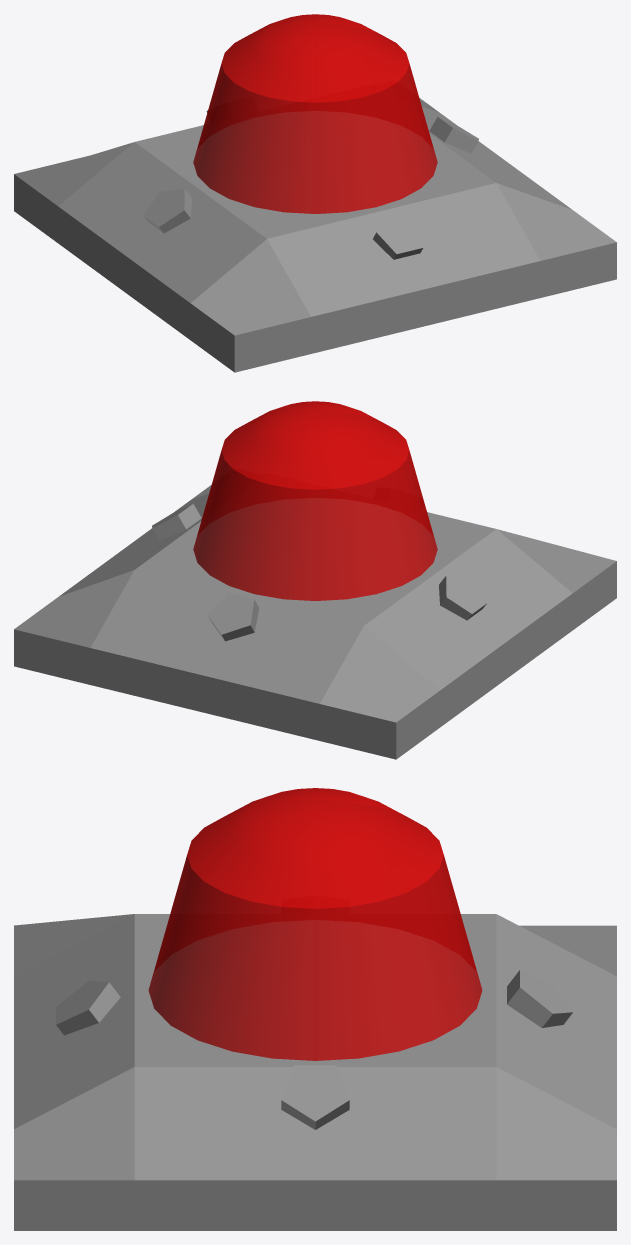
File: Alarm.FBX
3 renders of one model, top to bottom at view 1: azimuth 30°, elevation 25°; view 2: azimuth 150°, elevation 25°; view 3: azimuth 270°, elevation 25°, orthographic. The views are drawn at different scales.
Visible parts, largest first — view 1: Box001, Cone001; view 2: Box001, Cone001; view 3: Box001, Cone001.
Boxes of the visible parts, x1,y1,x2,y2 form: Box001: [14, 98, 616, 372]; Cone001: [193, 14, 437, 213]; Box001: [14, 485, 616, 759]; Cone001: [193, 401, 437, 600]; Box001: [14, 914, 616, 1230]; Cone001: [148, 788, 482, 1060].
Size of the model in its own units: 15 by 8.82 by 15.
